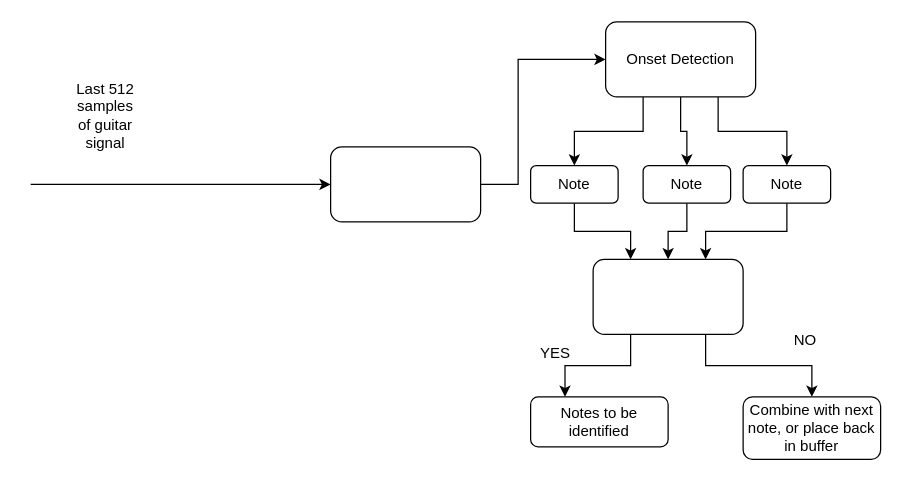
This 903x481 diagram has some shape labels left out. The shapes that lost their labels are listed below. From the top down, each one's centre as x and y in pixels, then its label:
point 405,184: Buffer (Max 32000 samples)
point 667,296: Loud enough? Long enough?
